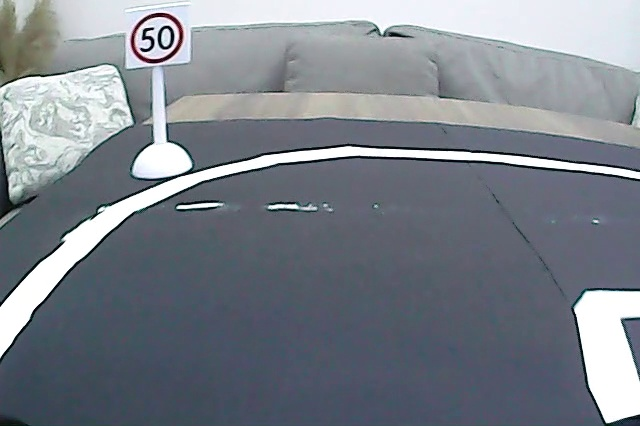speed limit 50: (127, 9, 191, 66)
